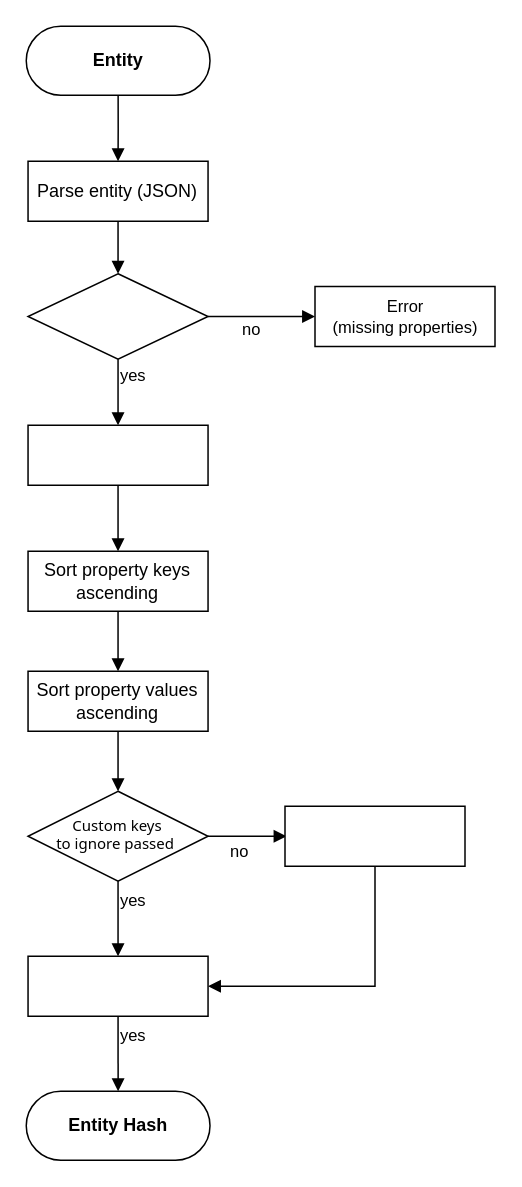
Some shapes in this 522 by 1187 pixel diagram are drawn without their labels. Here are the shapes that lost their labels. From the top down, the box of each, then its label:
(27, 272, 208, 359): contains property values
(27, 424, 208, 485): Remove empty Lists, Strings and null
(284, 805, 465, 866): Load default keys
(27, 955, 208, 1016): Remove keys that should be ignored
